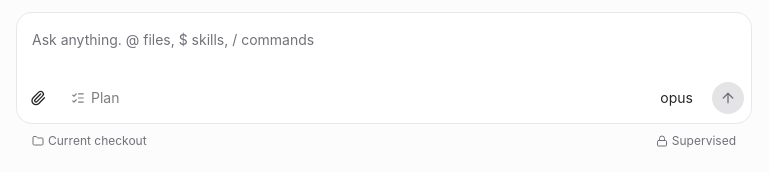
Scenario: Composer › completes a $ skill from the keyboard
Type "use $ar" into the text box at (384, 44), box [16,12,752,76]
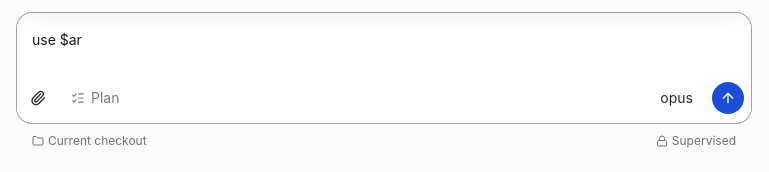
Press Enter
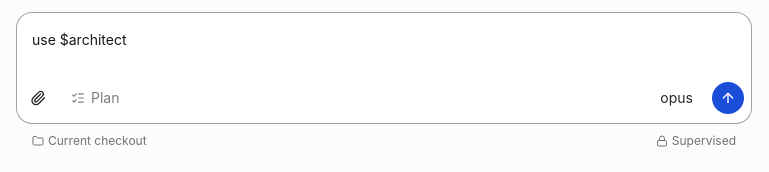
Now the text box holds "use $architect ", box [16,12,752,76]
